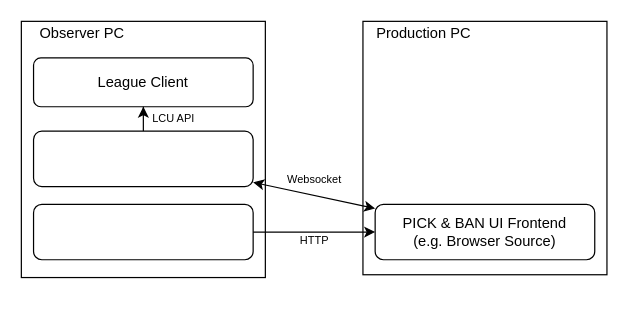
Image size: 628x311. Some labels were removed from this diagram. Each missing label, with the centre of its shape:
"PICK & BAN UI Backend" goes at pixel 142 158.
"PICK & BAN UI Frontend (Webserver)" goes at pixel 142 231.
